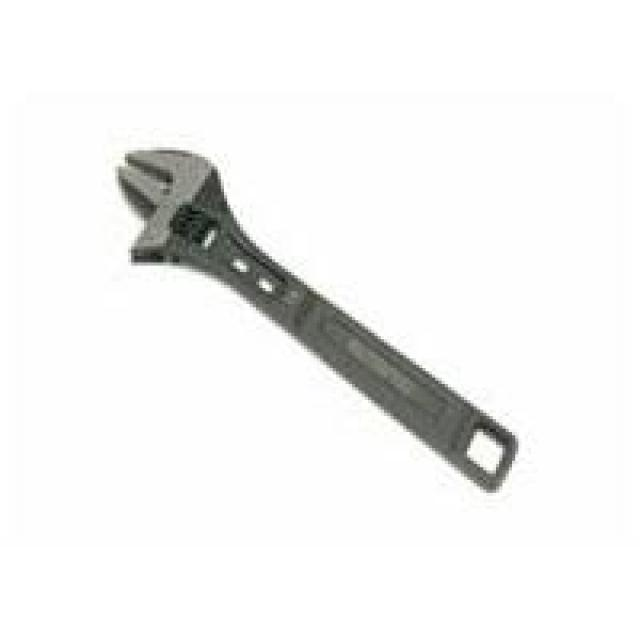wrench: (65, 98, 563, 538)
